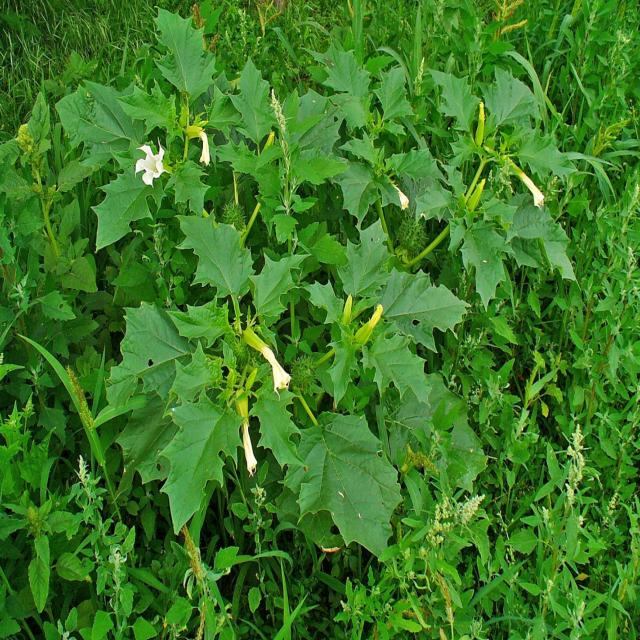Poisonous-Datura_Stramonium: (63, 70, 347, 318), (177, 315, 411, 527), (385, 84, 562, 304)
